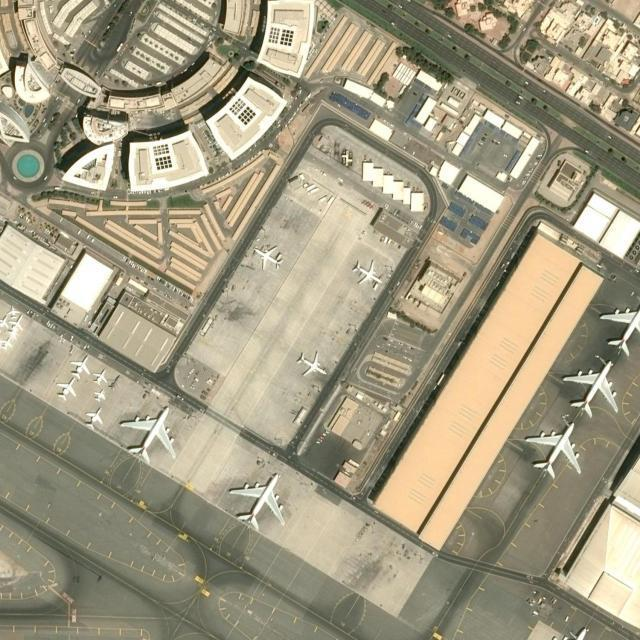Aircraft: (523, 422, 583, 479), (228, 472, 286, 530), (119, 404, 175, 462), (564, 360, 620, 416), (598, 305, 640, 356), (352, 260, 384, 286), (253, 243, 283, 270), (296, 351, 327, 377), (70, 355, 90, 379), (56, 377, 76, 401), (85, 407, 103, 431), (9, 315, 25, 333), (107, 374, 121, 390), (92, 369, 106, 385), (1, 337, 14, 351), (93, 388, 105, 402), (7, 305, 19, 319), (0, 315, 8, 331)
